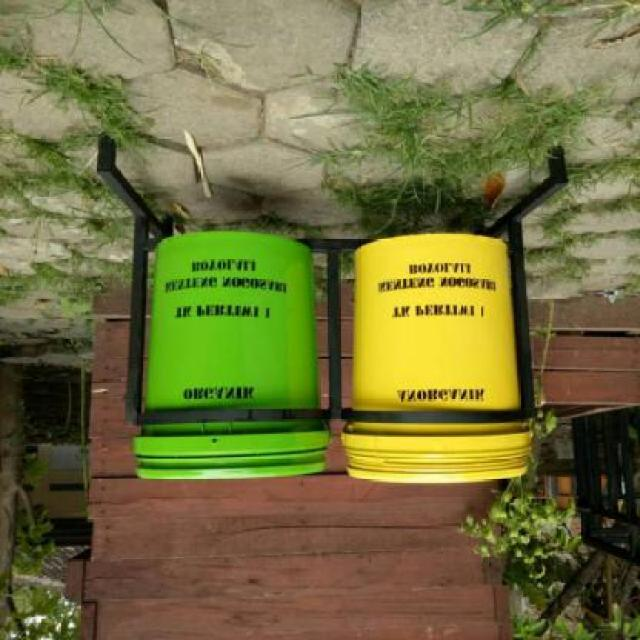garbage container: (336, 223, 544, 491), (129, 222, 330, 496)
